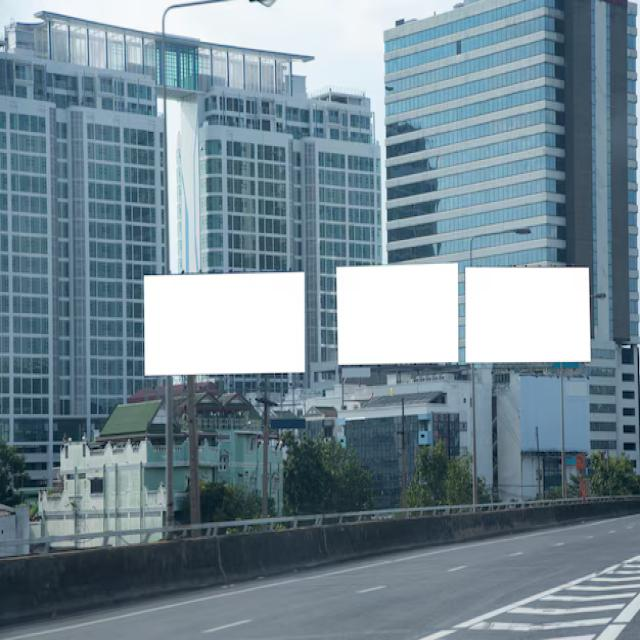Billboard_LHS: (142, 251, 317, 400), (463, 255, 599, 378), (332, 255, 463, 378)
Roadcorner: (18, 521, 524, 639)
Roadlane: (184, 525, 612, 638)
